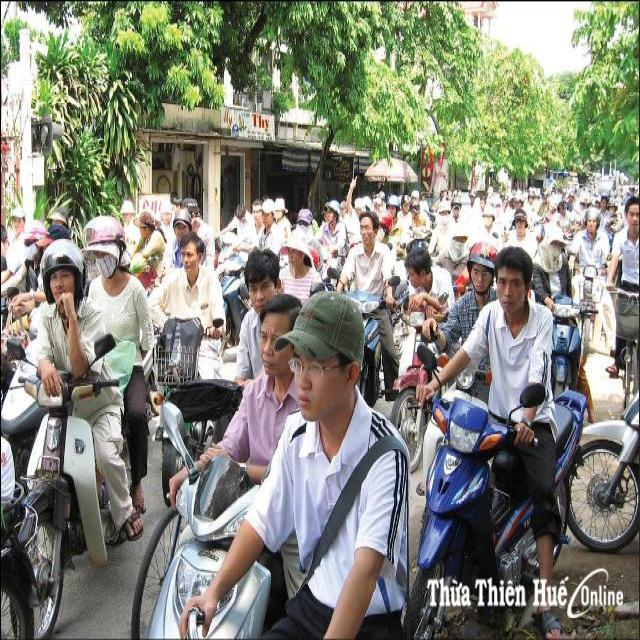no_helmet: (275, 289, 365, 372), (491, 242, 535, 319)
